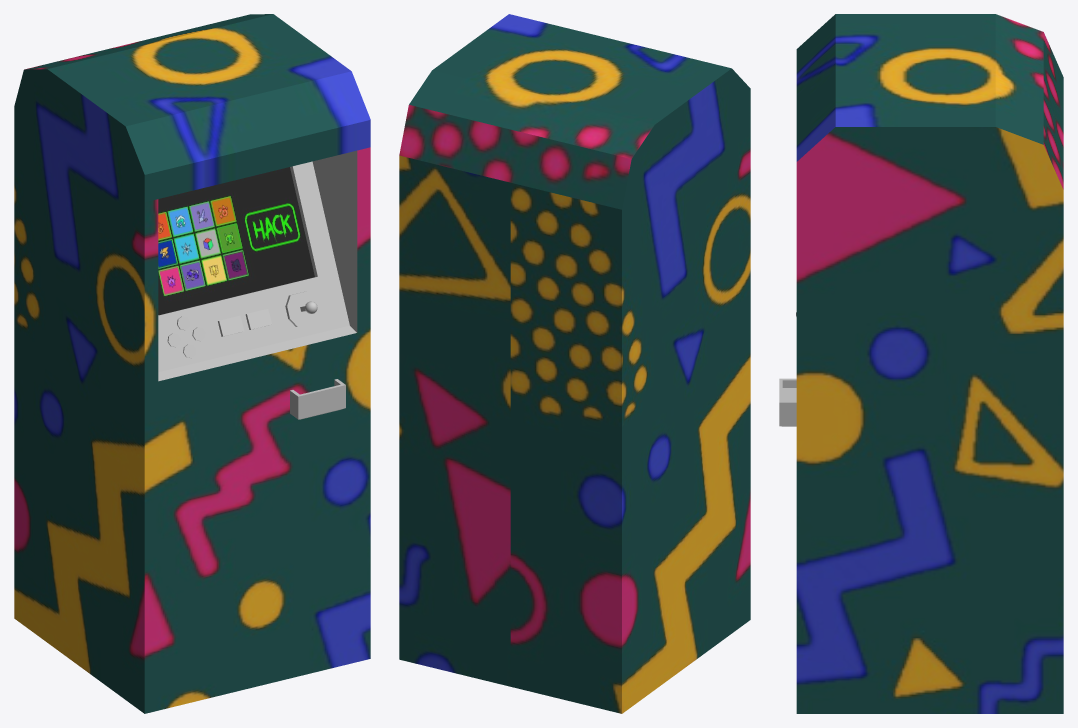
File: CardHackATM (1).fbx
The picture shows the model from 3 angles, left to right: view 1: azimuth 30°, elevation 25°; view 2: azimuth 150°, elevation 25°; view 3: azimuth 270°, elevation 25°; orthographic projection. The views are drawn at different scales.
Visible parts, largest first — view 1: HackATM; view 2: HackATM; view 3: HackATM.
Part boxes in pixels (left/top/right/bottom): HackATM: left=14, top=14, right=370, bottom=713; HackATM: left=399, top=14, right=750, bottom=713; HackATM: left=779, top=14, right=1063, bottom=713.
Bounding box in the file's own units: 143 × 347 × 152.
